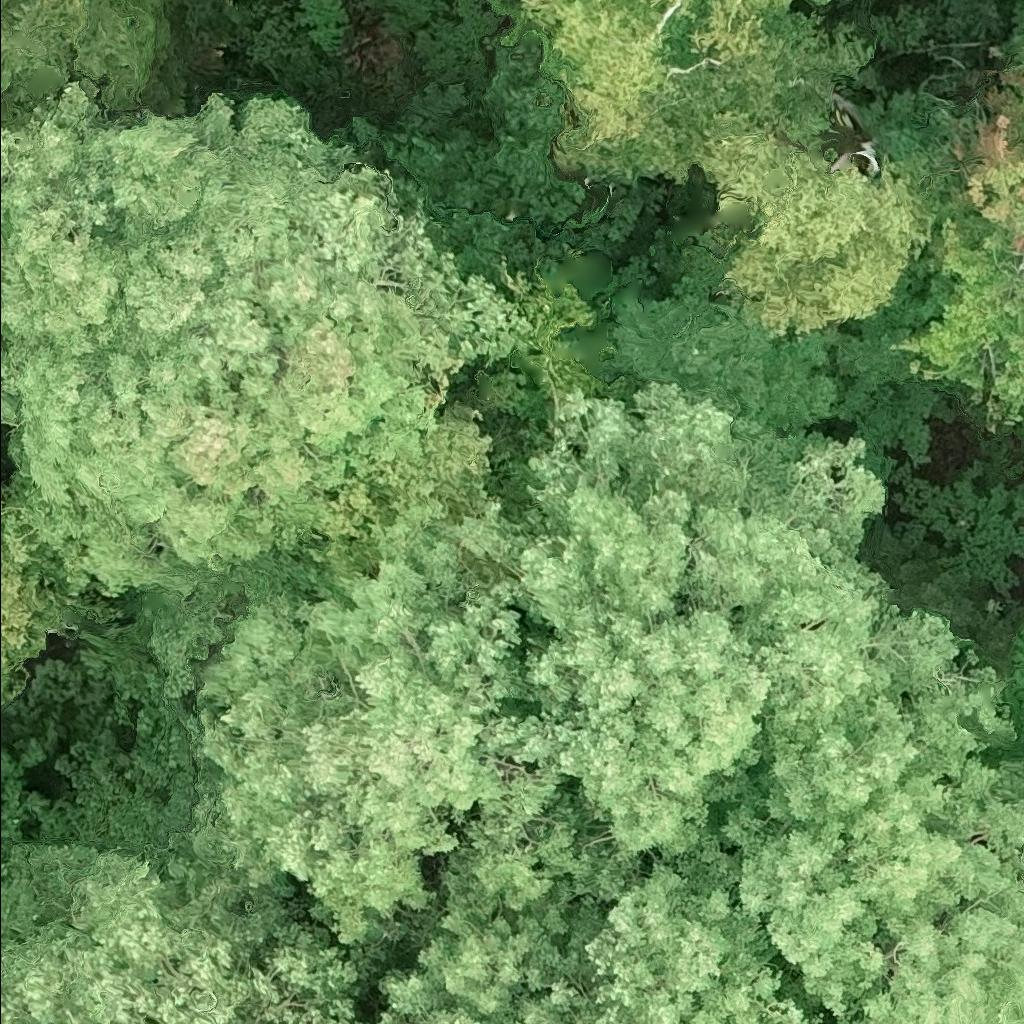crown: (434, 383, 972, 958), (0, 89, 543, 590), (186, 505, 557, 932), (77, 392, 503, 745), (725, 673, 1023, 1023), (370, 854, 814, 1023), (0, 833, 361, 1023), (533, 0, 816, 179), (711, 131, 948, 337), (892, 97, 1023, 407), (462, 260, 620, 409), (0, 484, 91, 707), (428, 1011, 476, 1023)
